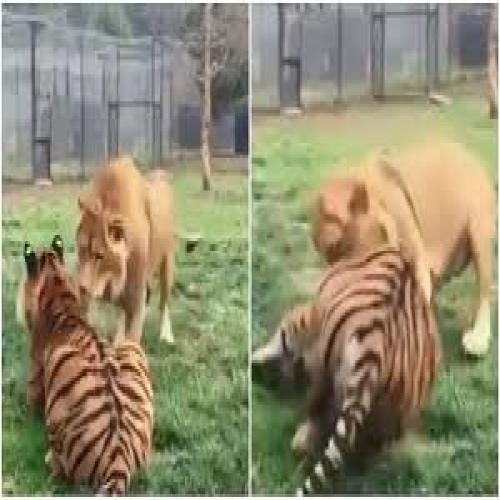lion-endangered: (307, 130, 497, 271), (69, 148, 183, 350)
